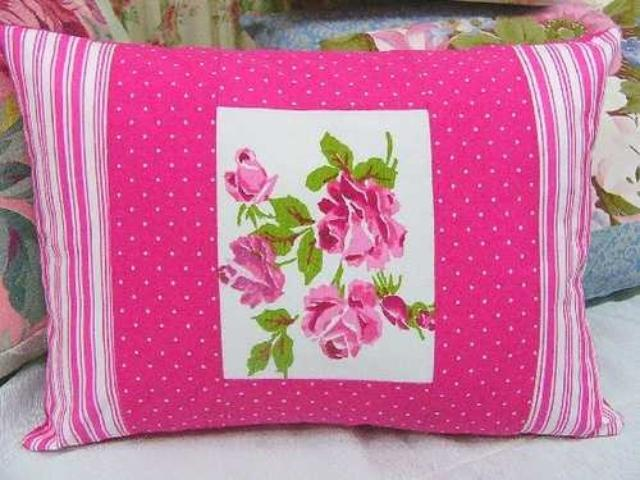pillow: (2, 14, 624, 450)
